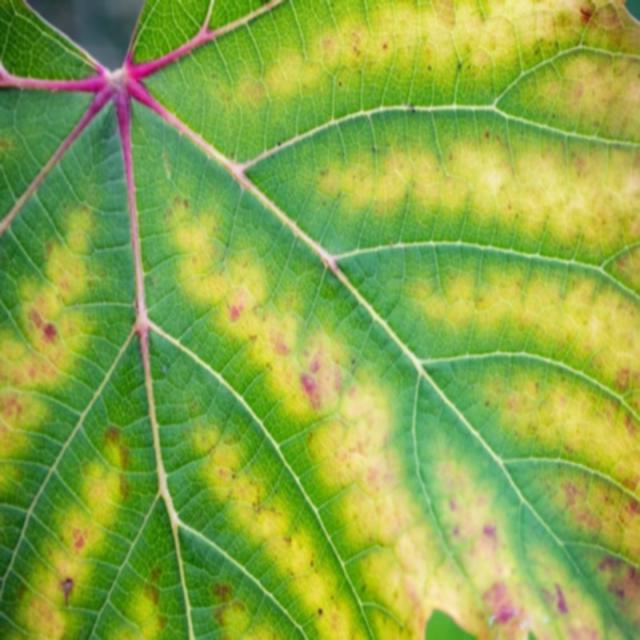Chlorosis: (6, 0, 640, 638)
